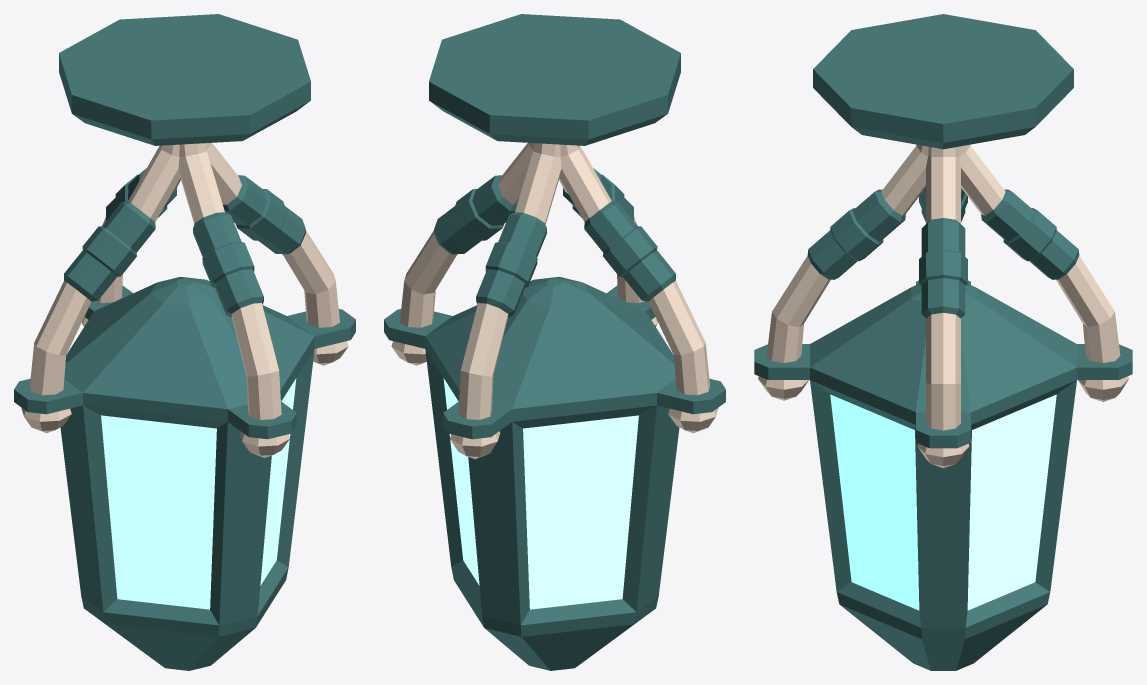
File: Lamp_Ceiling_Aridite.fbx
The picture shows the model from 3 angles, left to right: view 1: azimuth 30°, elevation 25°; view 2: azimuth 150°, elevation 25°; view 3: azimuth 270°, elevation 25°; orthographic projection.
Parts seen in each view (by area): view 1: AriditeLamp_Ceiling _LOD0; view 2: AriditeLamp_Ceiling _LOD0; view 3: AriditeLamp_Ceiling _LOD0.
Part boxes in pixels (left/top/right/bottom): AriditeLamp_Ceiling _LOD0: left=14, top=14, right=355, bottom=670; AriditeLamp_Ceiling _LOD0: left=384, top=14, right=725, bottom=670; AriditeLamp_Ceiling _LOD0: left=754, top=14, right=1132, bottom=670.
Size of what is drawn, in the model's own units: 0.2721 by 0.4725 by 0.2721.
